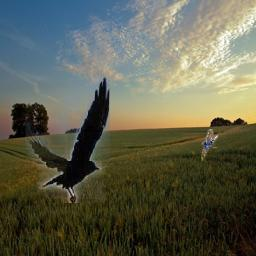Crow: (26, 77, 111, 203)
Swallow: (202, 129, 219, 161)
